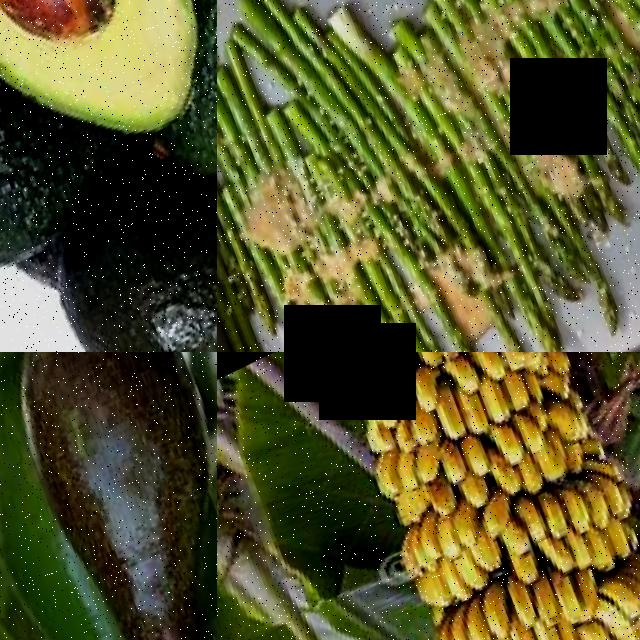asparagus: (567, 230, 640, 352), (220, 216, 280, 342), (503, 272, 564, 352), (435, 298, 504, 352), (478, 294, 538, 352), (588, 130, 626, 205)
avocado: (0, 352, 217, 640), (0, 0, 217, 229), (0, 352, 160, 640), (27, 128, 217, 352), (127, 0, 217, 204)
banana: (356, 352, 594, 487), (470, 457, 640, 613), (396, 533, 640, 640), (366, 505, 507, 640), (326, 352, 555, 432), (476, 386, 616, 513), (362, 435, 498, 550)
